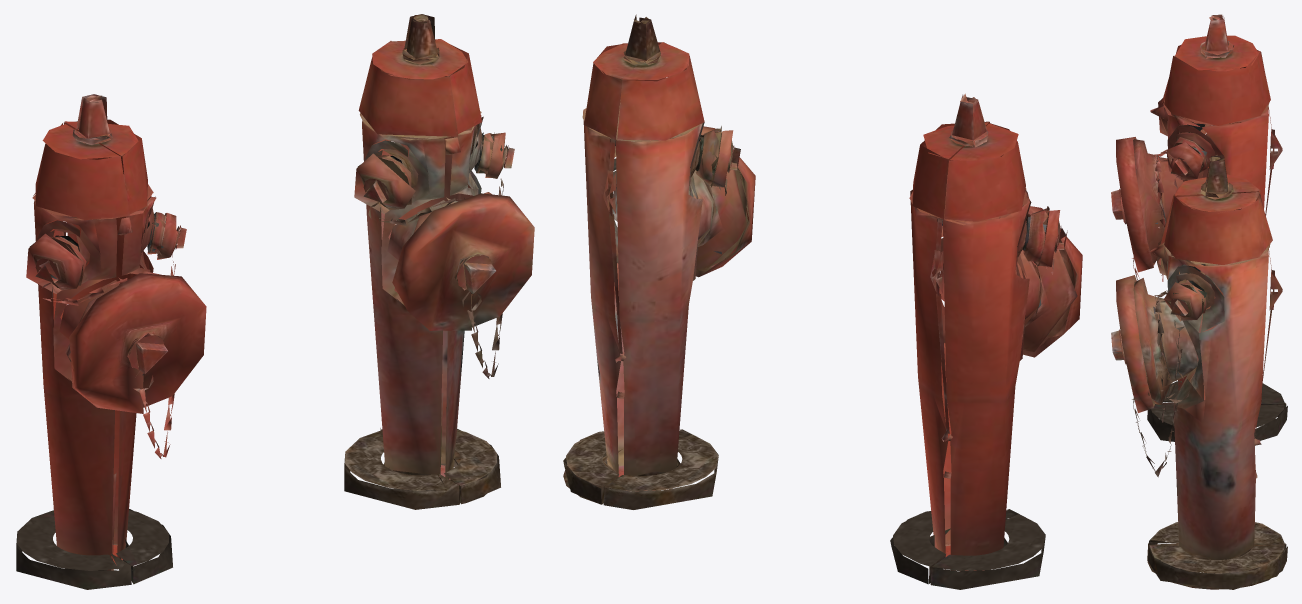
The model's file is ph_fire_hydrant.glb.
3 views of the same model, side by side, from view 1: azimuth 30°, elevation 25°; view 2: azimuth 150°, elevation 25°; view 3: azimuth 270°, elevation 25° (orthographic). The views are drawn at different scales.
Parts seen in each view (by area): view 1: fire_hydrant; view 2: fire_hydrant; view 3: fire_hydrant.
Boxes of the visible parts, <box> form: fire_hydrant: <box>16,14,534,589</box>; fire_hydrant: <box>563,14,1082,589</box>; fire_hydrant: <box>1111,14,1287,589</box>.
Bounding box in the file's own units: 0.8728 × 0.8062 × 0.3189.
Materials: 2 (2 with a texture image).
